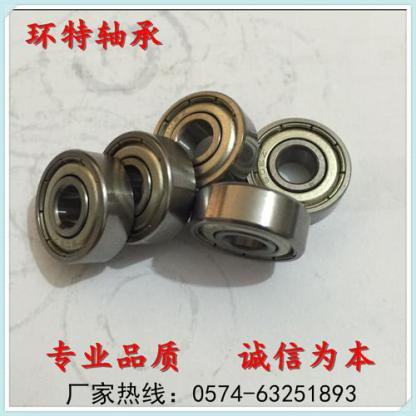FOD: (32, 146, 138, 270), (100, 127, 200, 252), (240, 114, 355, 216), (155, 84, 261, 192), (186, 179, 314, 265)
